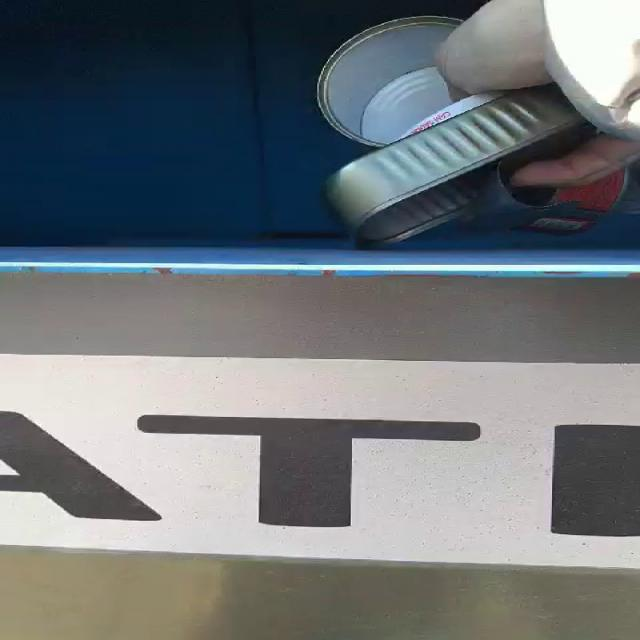bin: (0, 0, 640, 568), (3, 549, 637, 640)
metal: (319, 17, 627, 247)
